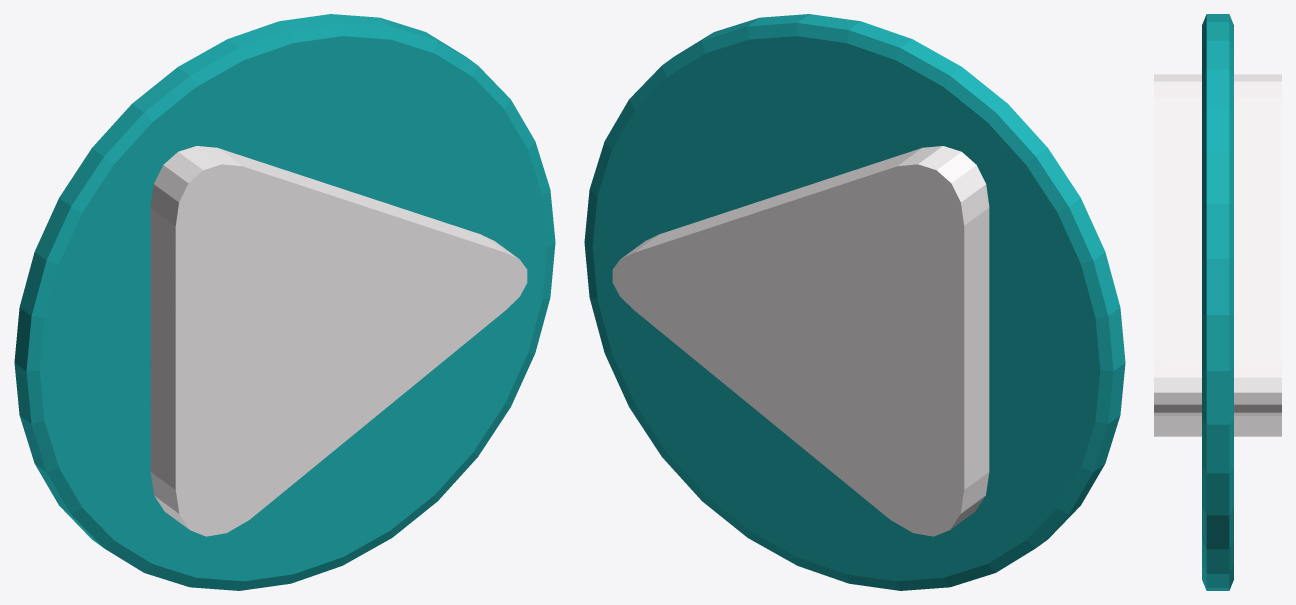
The model's file is Play.gltf.
3 views of the same model, side by side, from view 1: azimuth 30°, elevation 25°; view 2: azimuth 150°, elevation 25°; view 3: azimuth 270°, elevation 25° (orthographic). The views are drawn at different scales.
Visible parts, largest first — view 1: Play; view 2: Play; view 3: Play.
Boxes of the visible parts, x1,y1,x2,y2 form: Play: (14, 14, 555, 590); Play: (584, 14, 1125, 590); Play: (1154, 14, 1281, 590).
Bounding box in the file's own units: 2.53 × 2.53 × 0.5601.
